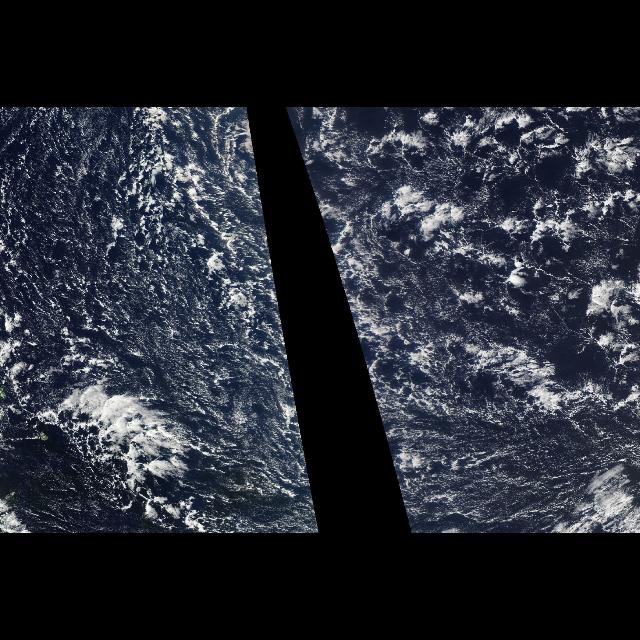Gravel: (0, 107, 274, 405), (389, 348, 639, 534)
Sugar: (381, 419, 577, 523), (346, 244, 480, 332)
